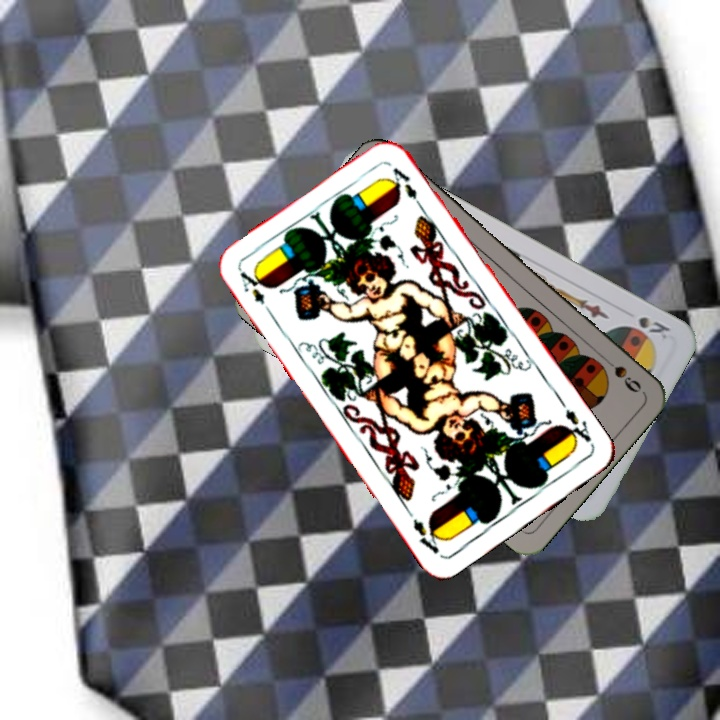EA: (558, 404, 594, 448), (235, 267, 269, 308)
S9: (607, 359, 644, 396)
SK: (634, 312, 673, 344)
